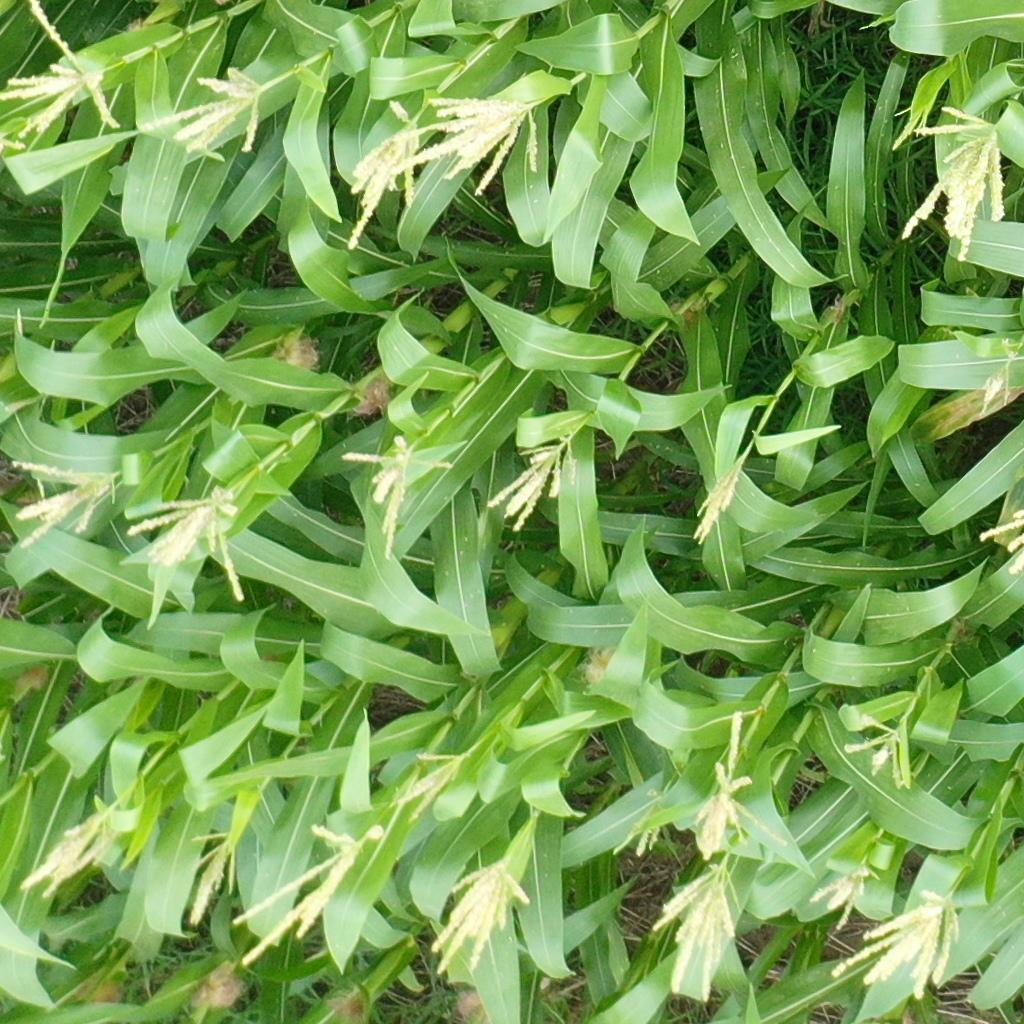Tassel: (233, 821, 368, 965), (1, 1, 122, 152), (903, 105, 1010, 266), (337, 434, 458, 563), (831, 887, 968, 1000), (394, 94, 540, 198), (686, 711, 789, 857), (123, 490, 250, 603), (653, 857, 744, 1007), (431, 858, 532, 981), (342, 93, 418, 249), (137, 66, 266, 154), (9, 456, 120, 550), (486, 430, 582, 538), (18, 805, 115, 902), (688, 448, 749, 544), (810, 857, 879, 934), (184, 830, 237, 930), (845, 711, 912, 789), (401, 747, 462, 819), (977, 510, 1024, 579), (979, 339, 1020, 413), (616, 801, 665, 862), (893, 106, 930, 150)
